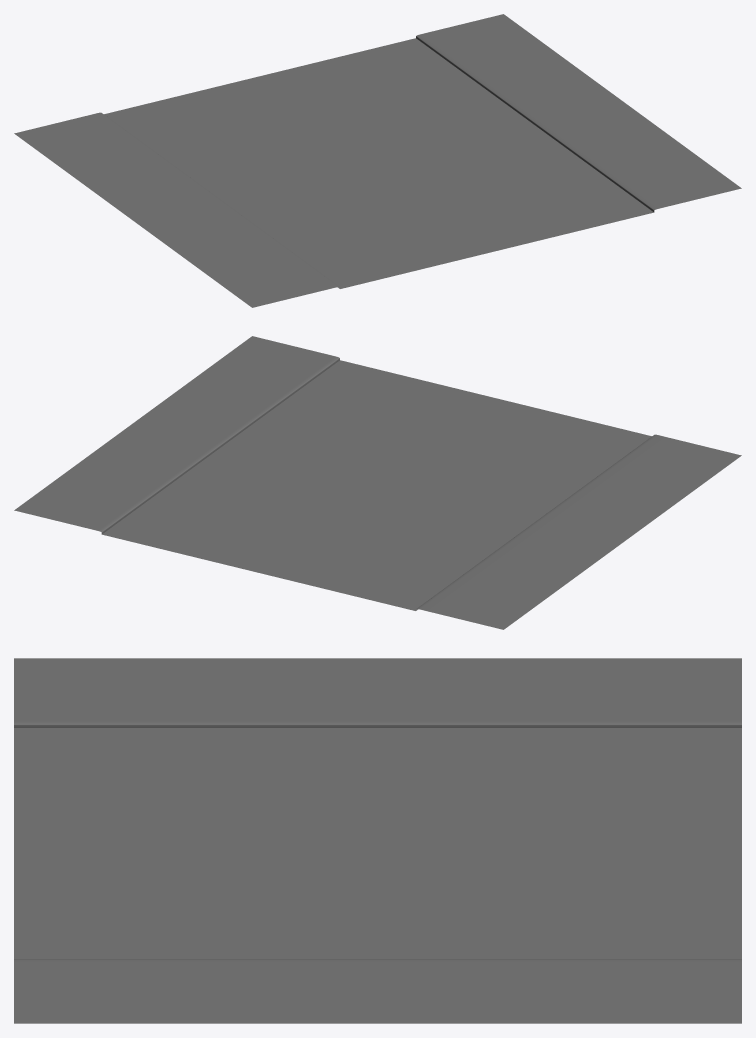
File: road.glb
3 renders of one model, top to bottom at view 1: azimuth 30°, elevation 25°; view 2: azimuth 150°, elevation 25°; view 3: azimuth 270°, elevation 25°, orthographic. The views are drawn at different scales.
Parts seen in each view (by area): view 1: pasted__pPlane1; view 2: pasted__pPlane1; view 3: pasted__pPlane1.
Boxes of the visible parts, x1,y1,x2,y2 form: pasted__pPlane1: (14, 14, 741, 307); pasted__pPlane1: (14, 336, 741, 629); pasted__pPlane1: (14, 658, 741, 1023).
Size of the model in its own units: 1191 by 6.29 by 1003.
Materials: 1 (1 with a texture image).
